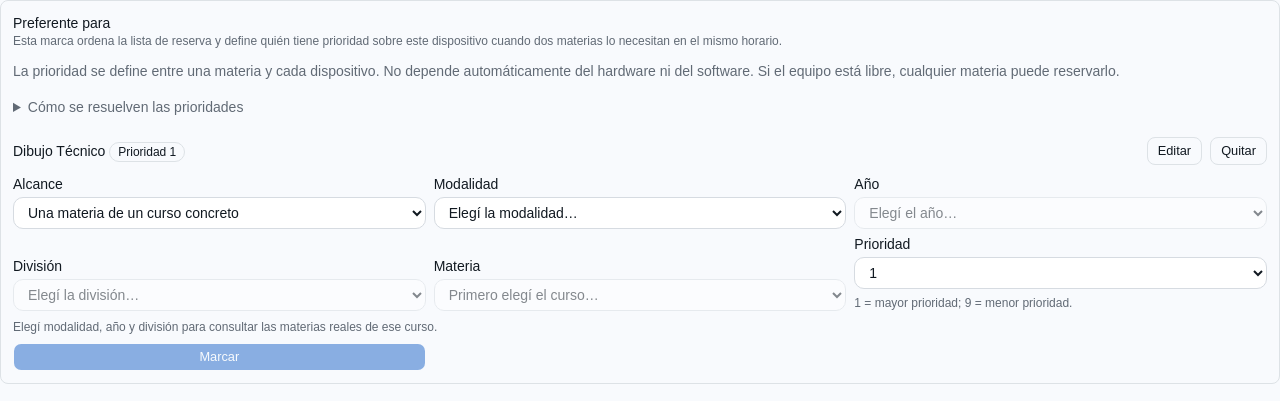
PreferenciasDeEquipo › corregir una marca › cancelar deja el formulario como estaba
Click the button "Editar" at (1174, 151), box [1147,137,1202,165]
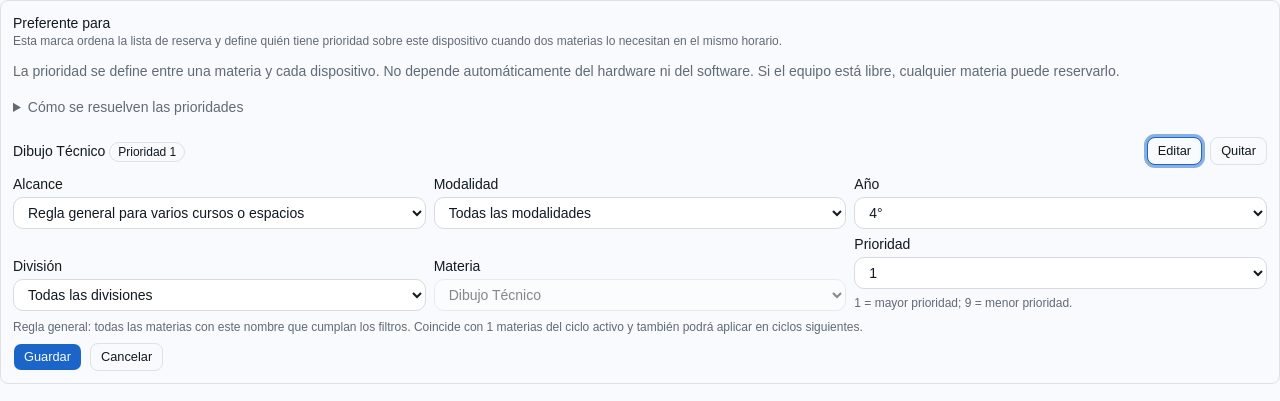
Click the button "Cancelar" at (127, 357), box [90,343,163,371]
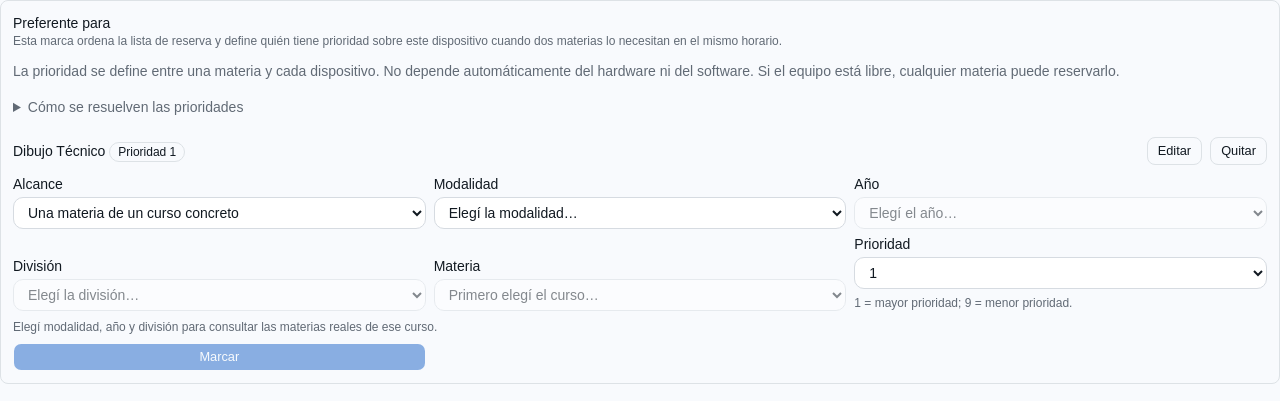
Result: the button "Marcar" is shown at [13,343,426,371]
Result: the dropdown labelled "Año" shows "Elegí el año…" at [854,197,1267,229]
